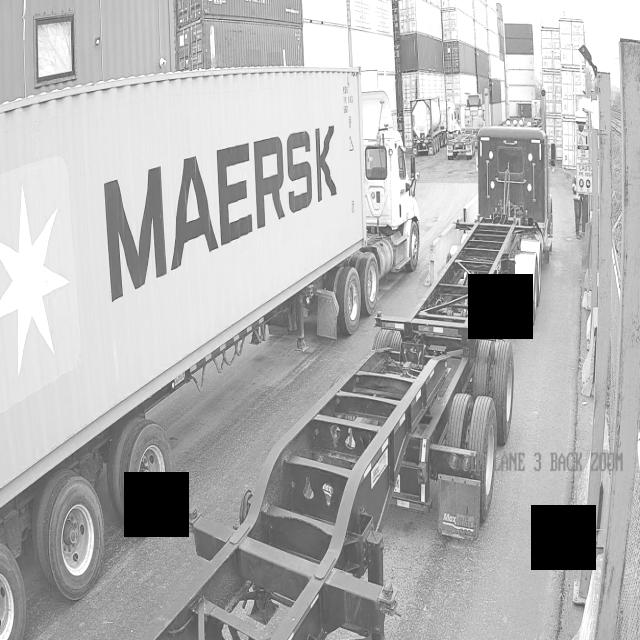container_company_logo: (100, 105, 343, 317)
truck_with_container: (0, 69, 420, 405)
truck_without_container: (140, 124, 554, 640)
